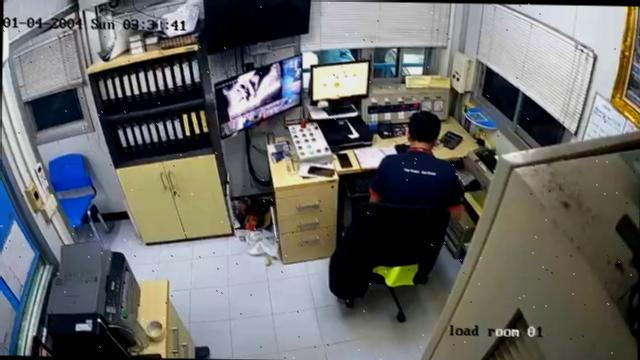Head: (407, 109, 440, 148)
People: (369, 112, 463, 219)
Phone: (306, 164, 333, 176), (335, 152, 352, 167)
